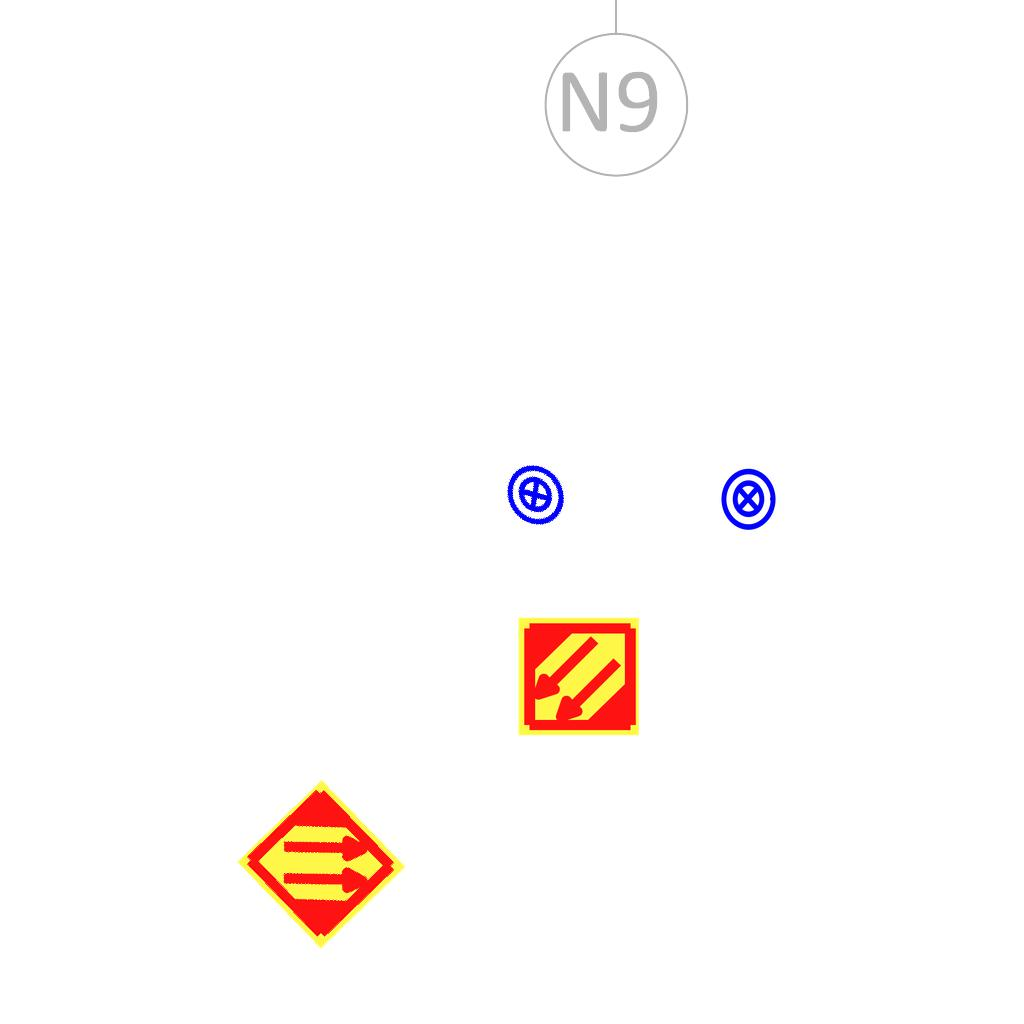ASR_Ansaugrauchmelder: (233, 776, 410, 953), (516, 614, 641, 739)
Taster_beleuchtet: (489, 449, 581, 541), (715, 466, 781, 532)
